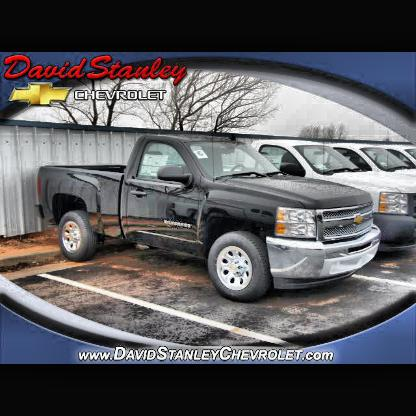Chevrolet Silverado 1500 Regular Cab 2012: (34, 132, 383, 304)
